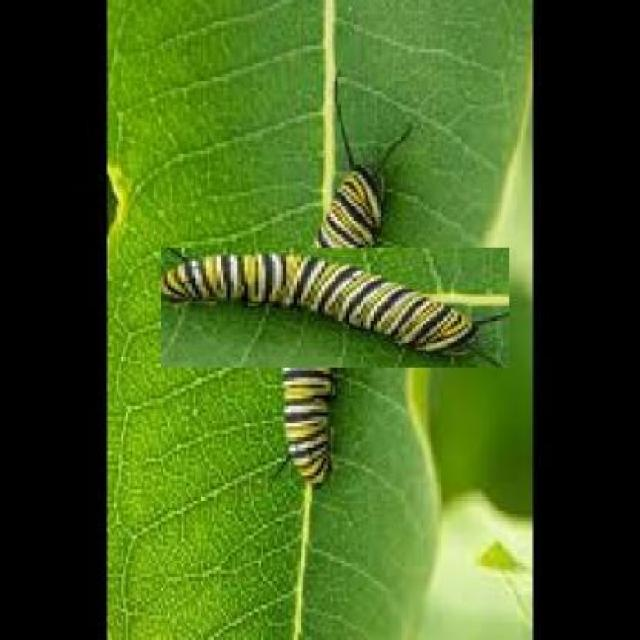Plaga: (219, 190, 456, 427)
